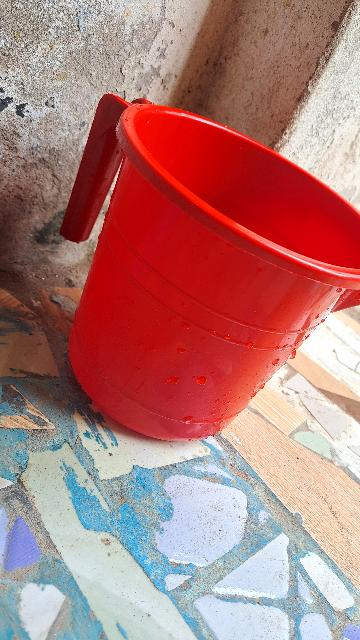hardplastic: (68, 66, 360, 461)
